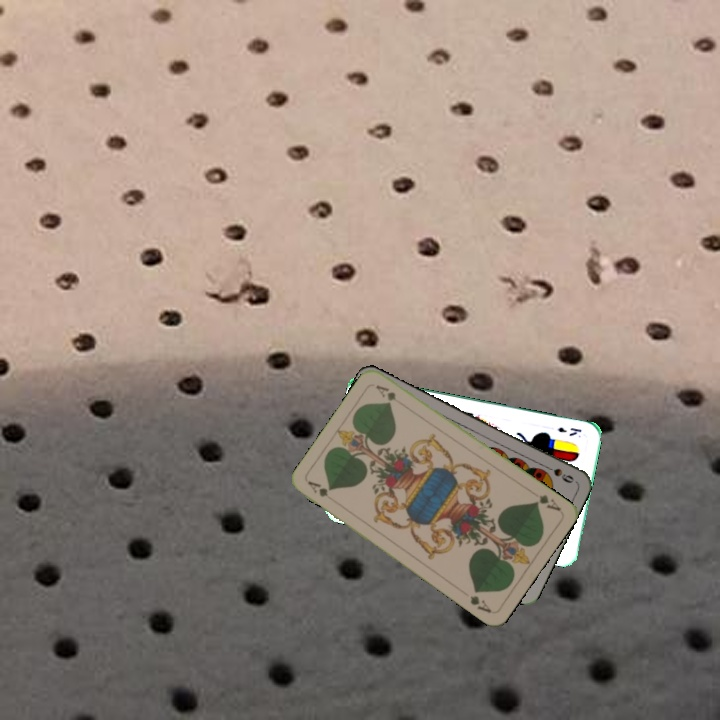EK: (554, 423, 584, 439)
GA: (531, 490, 563, 514), (304, 477, 331, 500)
S9: (539, 461, 576, 486)
